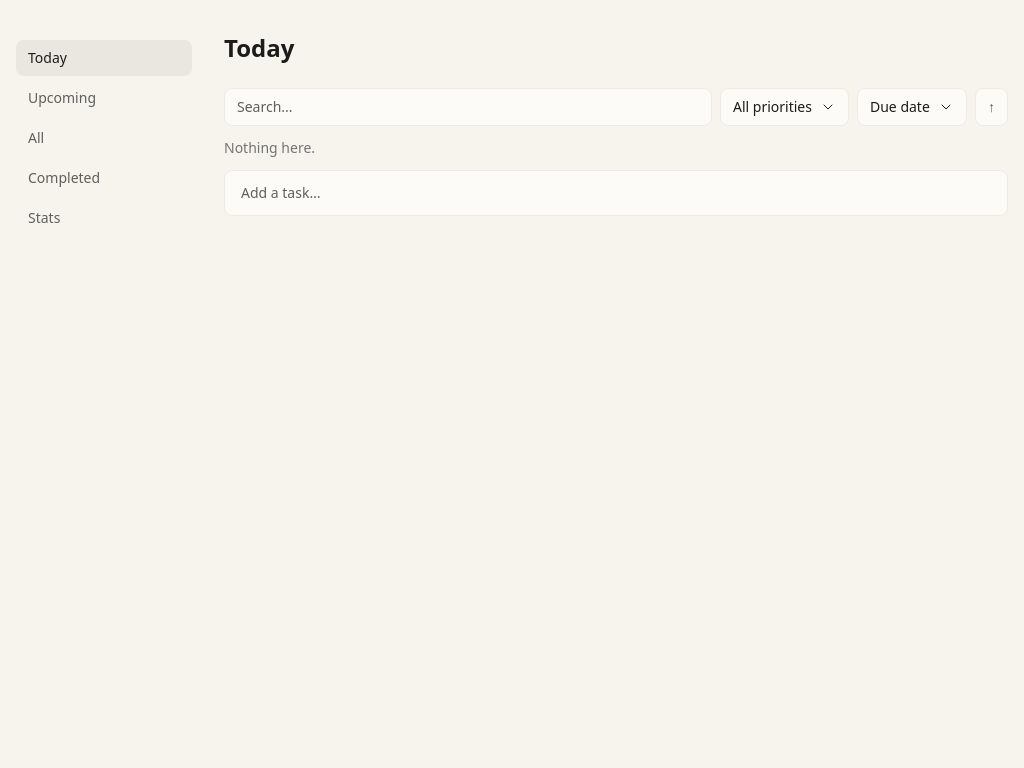
Scenario: Undo/redo — toast and keyboard › undo via toast restores the deleted task
Click the button "All": [104, 138] box [16,120,192,156]
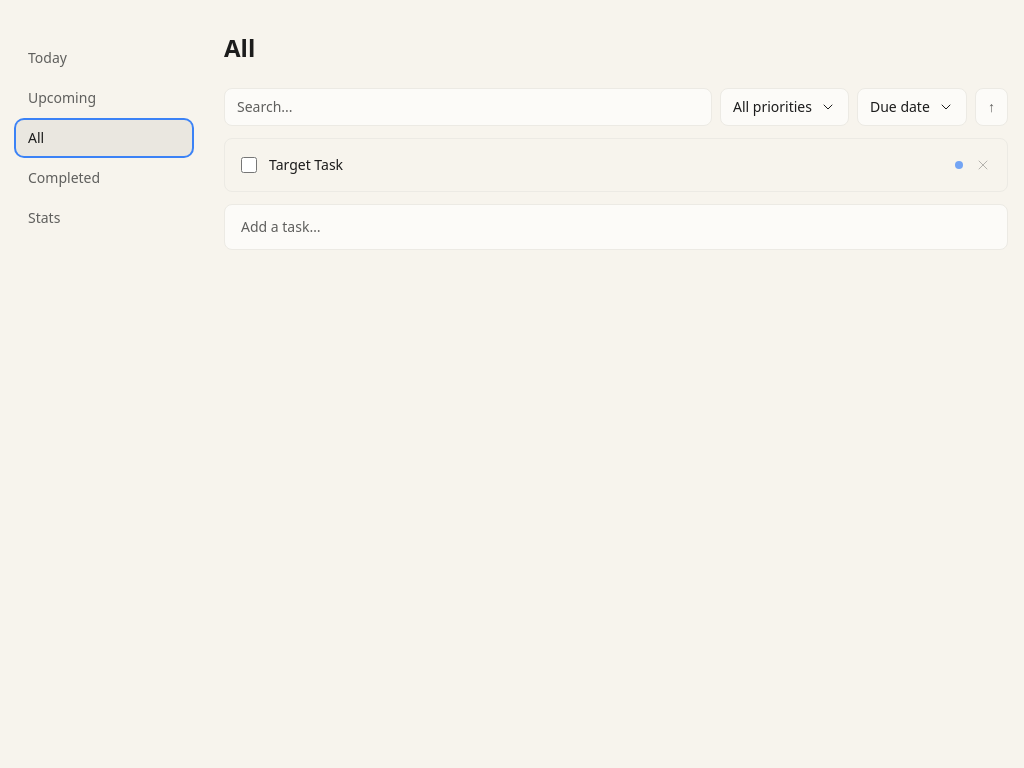
Click the button named "remove": [983, 165] box [975,157,991,173]
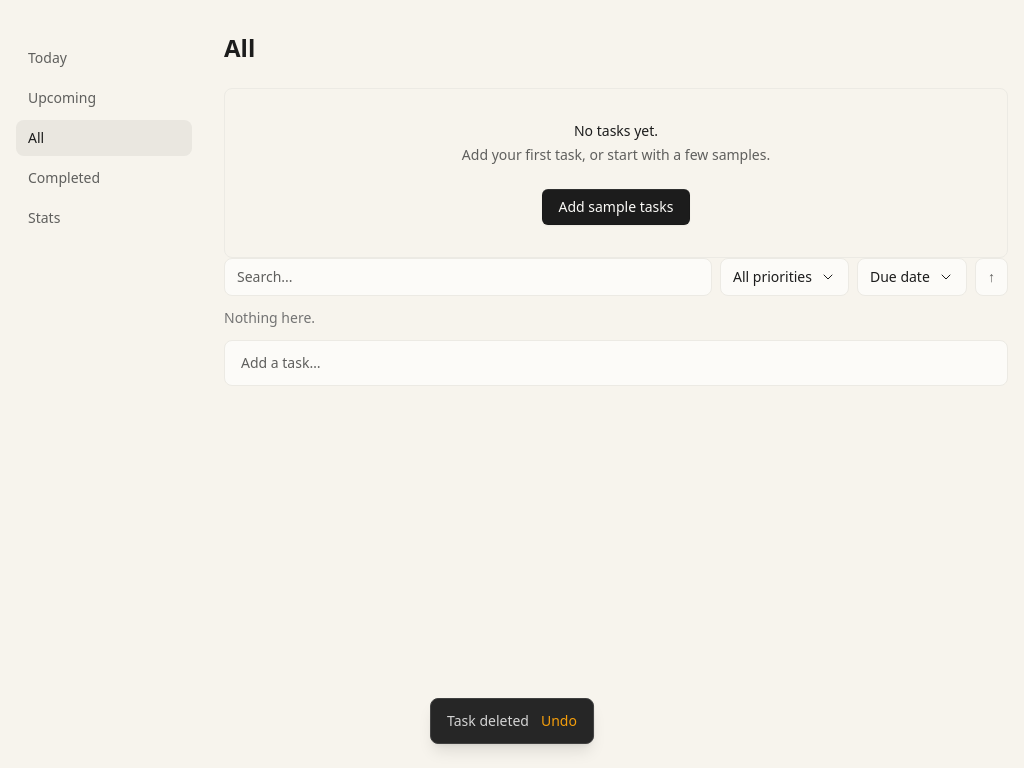
Expected: the button "Target Task" is gone
Click the button "Undo": [559, 721] box [541,711,577,731]
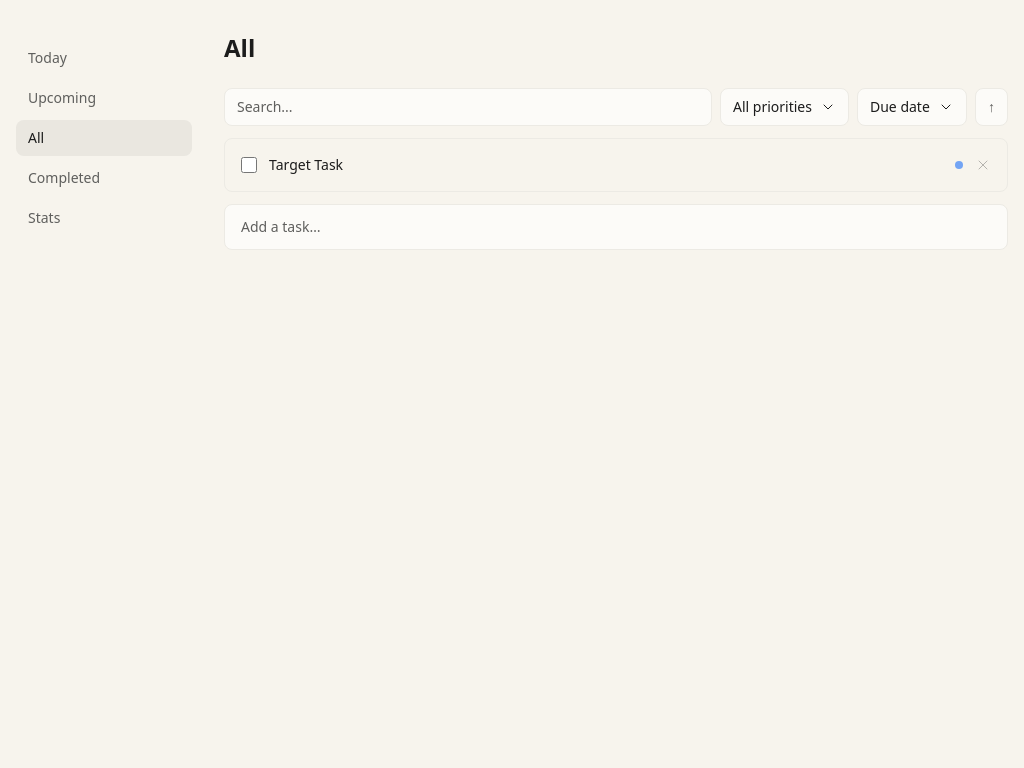
Expected: the button "Target Task" is shown, [269,155,943,175]
